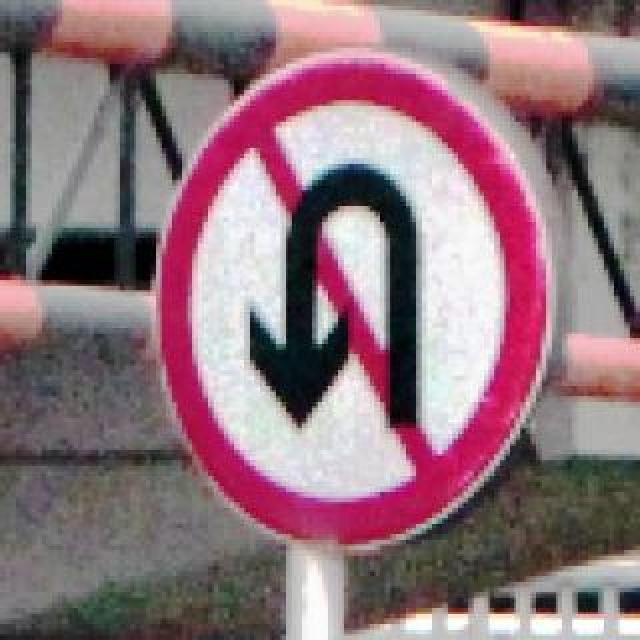no u turn: (152, 42, 552, 546)
